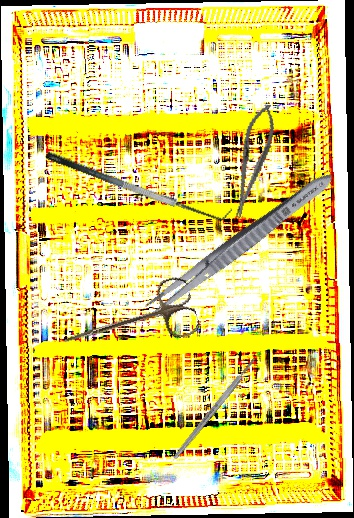Dressing Forceps: (134, 166, 339, 328)
Iris Scissors: (56, 273, 202, 373)
Needle Holder: (223, 100, 282, 222)
Scalpel Handle: (171, 356, 258, 461)
Spatula Surgical: (44, 135, 233, 232)
